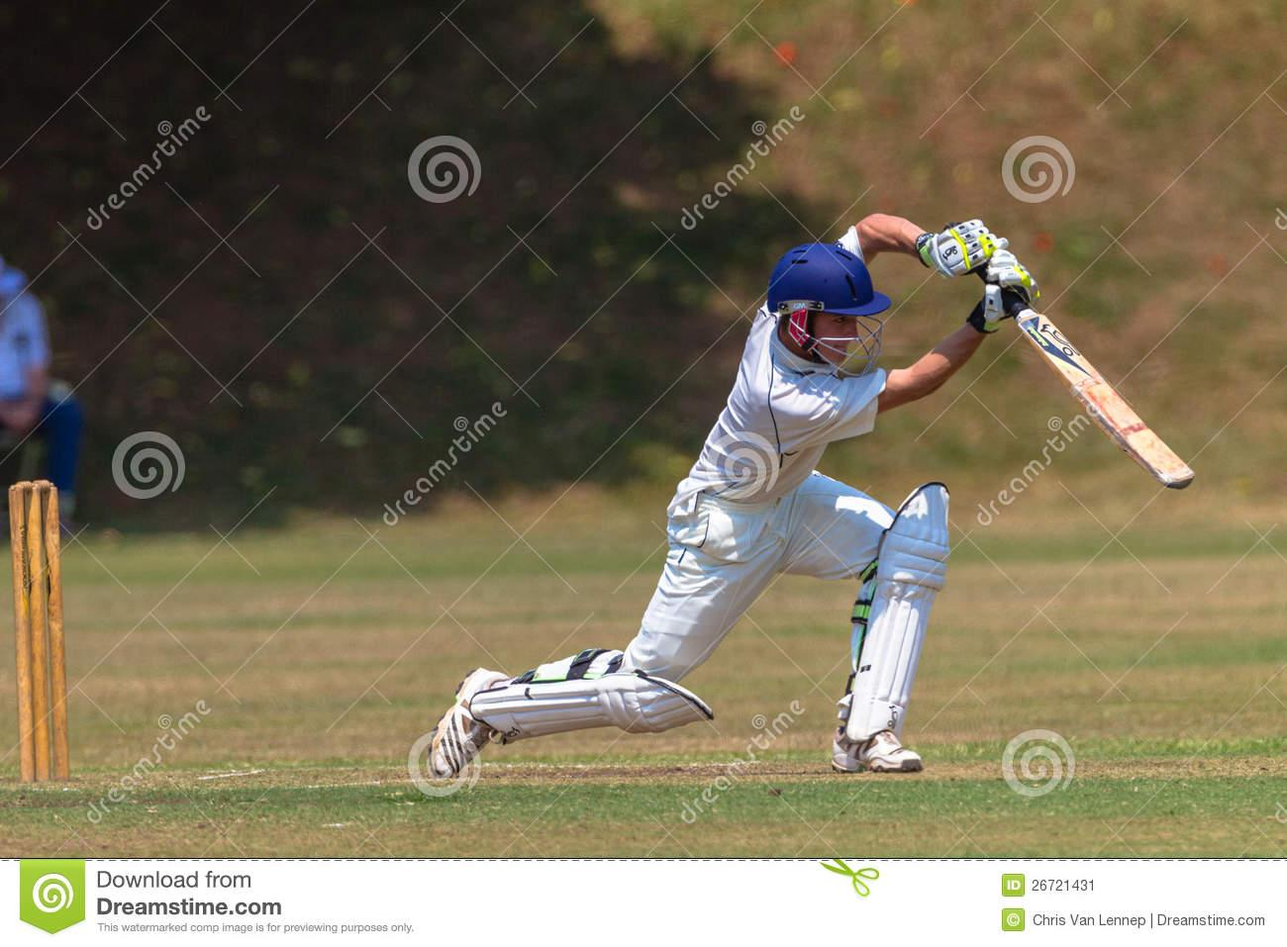batsman: (423, 208, 1198, 778)
